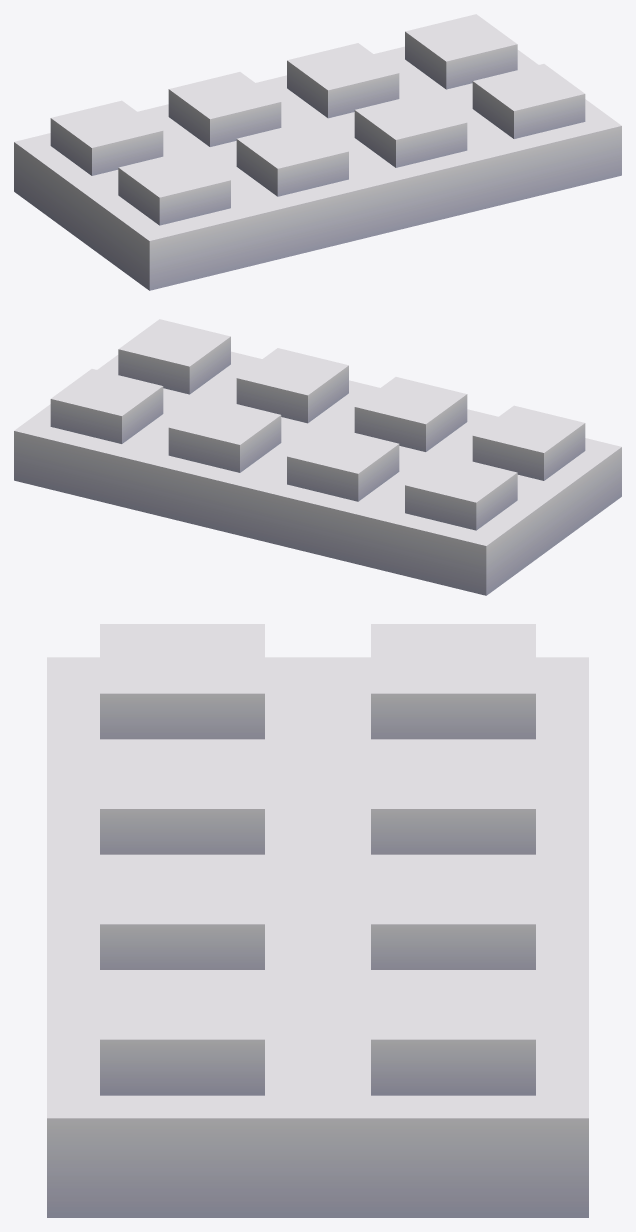
The model's file is kenney-brick-square-lq-plate-2-x-4.glb.
The picture shows the model from 3 angles, top to bottom: view 1: azimuth 30°, elevation 25°; view 2: azimuth 150°, elevation 25°; view 3: azimuth 270°, elevation 25°; orthographic projection. The views are drawn at different scales.
Visible parts, largest first — view 1: square-lq-plate-2x4; view 2: square-lq-plate-2x4; view 3: square-lq-plate-2x4.
Boxes of the visible parts, x1=… form: square-lq-plate-2x4: x1=14, y1=14, x2=621, y2=290; square-lq-plate-2x4: x1=14, y1=319, x2=621, y2=595; square-lq-plate-2x4: x1=47, y1=624, x2=588, y2=1217.
Bounding box in the file's own units: 0.318 × 0.05 × 0.158.
Materials: 1 (1 with a texture image).
